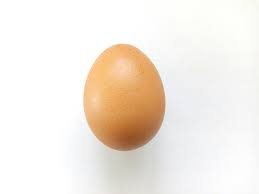egg: (82, 43, 168, 151)
